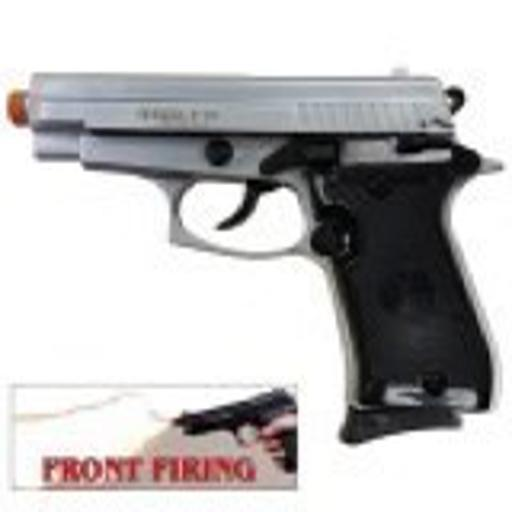Handgun: (5, 67, 501, 442), (159, 378, 303, 476)
